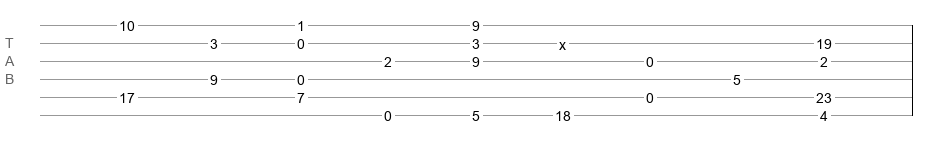0: (297, 72, 305, 82), (297, 36, 305, 46), (384, 108, 392, 118), (646, 54, 654, 64), (646, 90, 654, 100)
1: (297, 18, 305, 28)
10: (119, 18, 135, 28)
17: (119, 90, 135, 100)
18: (555, 108, 571, 118)
19: (816, 36, 832, 46)
2: (384, 54, 392, 64), (820, 54, 828, 64)
23: (816, 90, 832, 100)
3: (210, 36, 218, 46), (472, 36, 480, 46)
4: (820, 108, 828, 118)
5: (472, 108, 480, 118), (733, 72, 741, 82)
7: (297, 90, 305, 100)
9: (210, 72, 218, 82), (472, 18, 480, 28), (472, 54, 480, 64)
x: (559, 37, 566, 45)
